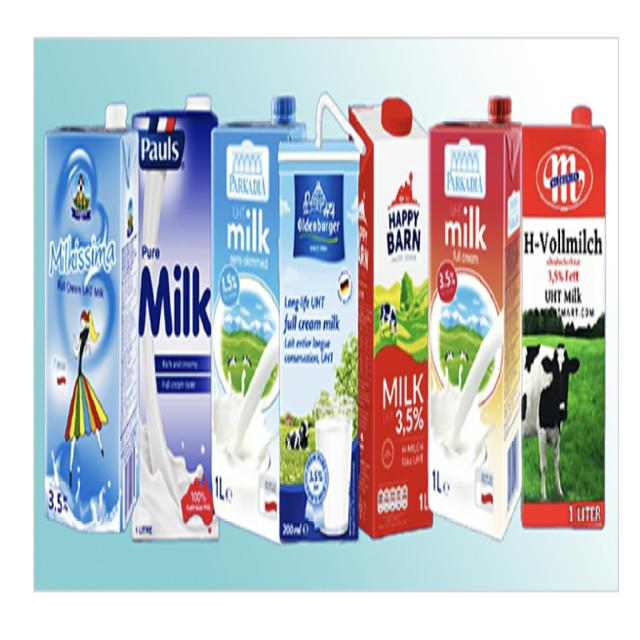biodegradable: (509, 71, 619, 561), (207, 48, 311, 556), (37, 80, 141, 539), (340, 68, 440, 544), (270, 96, 370, 571), (426, 72, 525, 538), (126, 74, 220, 550)
